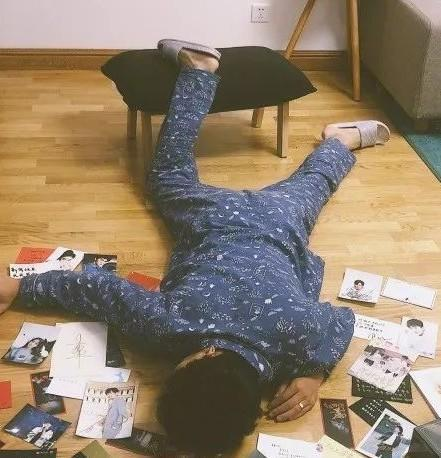Fall-Detected: (0, 28, 406, 458)
